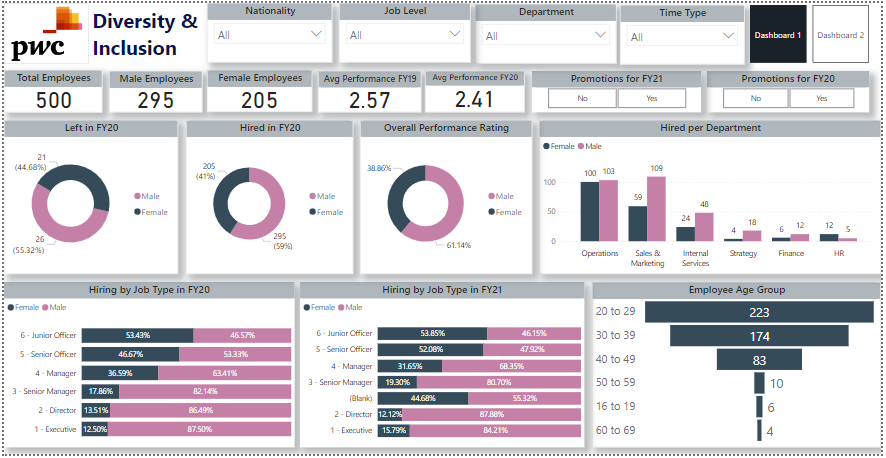

The dashboard page shown, as its layout file describes it:
{"tool":"powerbi","page":{"name":"Dashboard 1","canvas":[1400,720],"ordinal":0},"visuals":[{"type":"textbox","box":[135.4,0,187.2,97.9],"z":1},{"type":"image","box":[0,0,135.4,97.9],"z":2},{"type":"card","title":"Total Employees","fields":{"Values":["CountNonNull(Pharma Group AG.Employee ID)"]},"box":[0,106.6,157,67.7],"z":3},{"type":"card","title":"Male Employees","fields":{"Values":["Pharma Group AG.Male_Emp"]},"box":[167.8,108.3,149.5,65.6],"z":4},{"type":"card","title":"Female Employees","fields":{"Values":["Pharma Group AG.Female_Emp"]},"box":[323.3,106.8,167.8,67.1],"z":5},{"type":"funnel","title":"Employee Age Group","fields":{"Category":["Pharma Group AG.Age group"],"Y":["CountNonNull(Pharma Group AG.Employee ID)"]},"box":[938.9,445,460.8,263.5],"z":6},{"type":"card","title":"Avg Performance FY19","fields":{"Values":["Avg(Pharma Group AG.FY19 Performance Rating)"]},"box":[501.7,108.3,164.7,65.6],"z":8},{"type":"card","title":"Avg Performance FY20","fields":{"Values":["Avg(Pharma Group AG.FY20 Performance Rating)"]},"box":[672.5,108.3,158.6,65.6],"z":9},{"type":"slicer","title":"Promotions for FY20","fields":{"Values":["Pharma Group AG.Promotion in FY20?"]},"box":[1122.4,108.3,259.3,65.6],"z":10},{"type":"slicer","title":"Promotions for FY21","fields":{"Values":["Pharma Group AG.Promotion in FY21"]},"box":[843.4,108.3,269.9,65.6],"z":11},{"type":"slicer","title":"Department","fields":{"Values":["Pharma Group AG.Department"]},"box":[751.7,1.4,226.1,95],"z":12},{"type":"slicer","title":"Nationality","fields":{"Values":["Pharma Group AG.Nationality 1"]},"box":[324,0,200.2,95],"z":13},{"type":"slicer","title":"Job Level","fields":{"Values":["Pharma Group AG.Job Level after FY20 promotions"]},"box":[534.2,0,210.2,95],"z":14},{"type":"hundredPercentStackedBarChart","title":"Hiring by Job Type in FY20","fields":{"Y":["CountNonNull(Pharma Group AG.Gender)"],"Series":["Pharma Group AG.Gender"],"Category":["Pharma Group AG.Job Level after FY20 promotions"]},"box":[0,445.3,463.6,263.8],"z":15},{"type":"hundredPercentStackedBarChart","title":"Hiring by Job Type in FY21","fields":{"Y":["CountNonNull(Pharma Group AG.Gender)"],"Series":["Pharma Group AG.Gender"],"Category":["Pharma Group AG.Job Level after FY21 promotions"]},"box":[472.3,445,453.6,263.5],"z":16},{"type":"donutChart","title":"Left in FY20","fields":{"Category":["Pharma Group AG.Gender"],"Y":["CountNonNull(Pharma Group AG.Leaver FY)"]},"box":[0,187.6,277.6,245.5],"z":17},{"type":"donutChart","title":"Hired in FY20","fields":{"Category":["Pharma Group AG.Gender"],"Y":["CountNonNull(Pharma Group AG.New Hire FY20)"]},"box":[289.8,187.6,266.9,245.5],"z":18},{"type":"slicer","title":"Time Type","fields":{"Values":["Pharma Group AG.Time type"]},"box":[983.5,2.9,198.7,95],"z":19},{"type":"clusteredColumnChart","title":"Hired per Department","fields":{"Category":["Pharma Group AG.Department"],"Y":["CountNonNull(Pharma Group AG.New Hire FY20)"],"Series":["Pharma Group AG.Gender"]},"box":[854,187.6,546,245.5],"z":20},{"type":"donutChart","title":"Overall Performance Rating","fields":{"Category":["Pharma Group AG.Gender"],"Y":["Sum(Pharma Group AG.FY20 Performance Rating)"]},"box":[568.8,187.6,274.5,245.5],"z":21},{"type":"pageNavigator","box":[1190.9,2.9,190.1,92.2],"z":22}]}

Visuals, with their boxes in screenshot pixels (x1, y1, x2, y2), scaled from the page's 1400x720 canvas onto the 886x458 screenshot:
textbox: bbox(86, 0, 204, 62)
image: bbox(0, 0, 86, 62)
"Total Employees" card: bbox(0, 68, 99, 111)
"Male Employees" card: bbox(106, 69, 201, 111)
"Female Employees" card: bbox(205, 68, 311, 111)
"Employee Age Group" funnel: bbox(594, 283, 885, 451)
"Avg Performance FY19" card: bbox(318, 69, 422, 111)
"Avg Performance FY20" card: bbox(426, 69, 526, 111)
"Promotions for FY20" slicer: bbox(710, 69, 874, 111)
"Promotions for FY21" slicer: bbox(534, 69, 705, 111)
"Department" slicer: bbox(476, 1, 619, 61)
"Nationality" slicer: bbox(205, 0, 332, 60)
"Job Level" slicer: bbox(338, 0, 471, 60)
"Hiring by Job Type in FY20" hundredPercentStackedBarChart: bbox(0, 283, 293, 451)
"Hiring by Job Type in FY21" hundredPercentStackedBarChart: bbox(299, 283, 586, 451)
"Left in FY20" donutChart: bbox(0, 119, 176, 275)
"Hired in FY20" donutChart: bbox(183, 119, 352, 275)
"Time Type" slicer: bbox(622, 2, 748, 62)
"Hired per Department" clusteredColumnChart: bbox(540, 119, 885, 275)
"Overall Performance Rating" donutChart: bbox(360, 119, 534, 275)
pageNavigator: bbox(754, 2, 874, 60)
